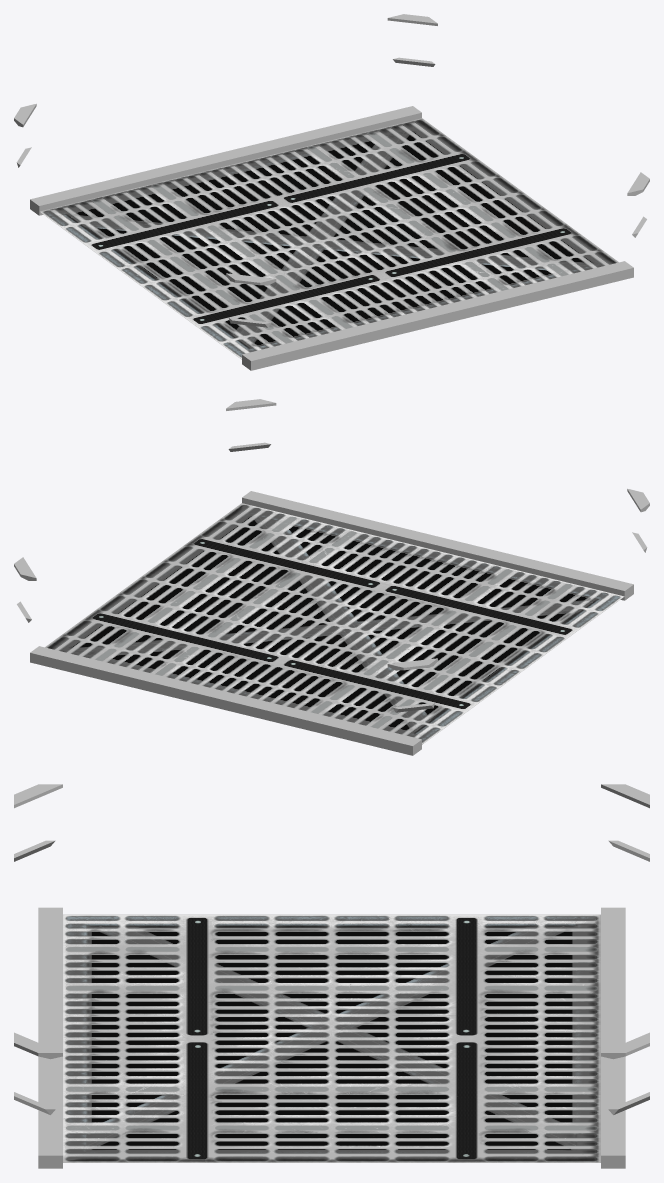
Rendered from PlateForm_Cross_01.FBX.
3 renders of one model, top to bottom at view 1: azimuth 30°, elevation 25°; view 2: azimuth 150°, elevation 25°; view 3: azimuth 270°, elevation 25°, orthographic. The views are drawn at different scales.
Visible parts, largest first — view 1: PlateForm_Cross_01; view 2: PlateForm_Cross_01; view 3: PlateForm_Cross_01.
Boxes of the visible parts, x1,y1,x2,y2 form: PlateForm_Cross_01: [14, 14, 649, 370]; PlateForm_Cross_01: [14, 399, 649, 755]; PlateForm_Cross_01: [14, 784, 649, 1168].
Bounding box in the file's own units: 6.5 × 1.42 × 6.5.
